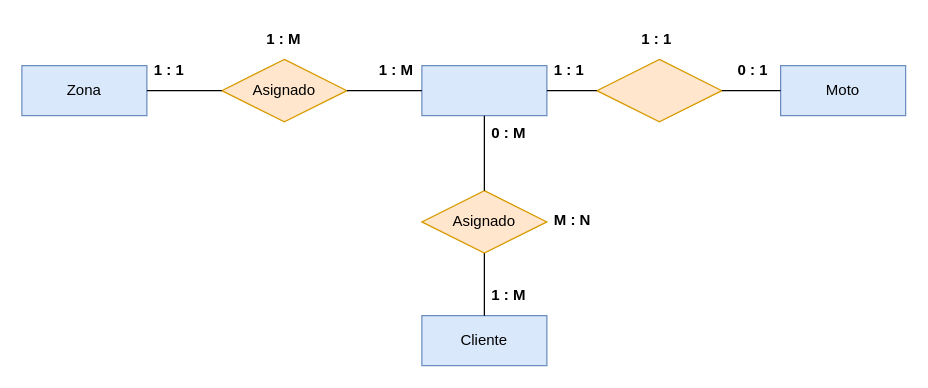
Image size: 928x388. Some labels were removed from this diagram. The shapes that lost their labels are listed below. From the top down, each one's centre as x and y in pixels, then its label:
point (484, 90): Repartidor
point (659, 90): Usa
